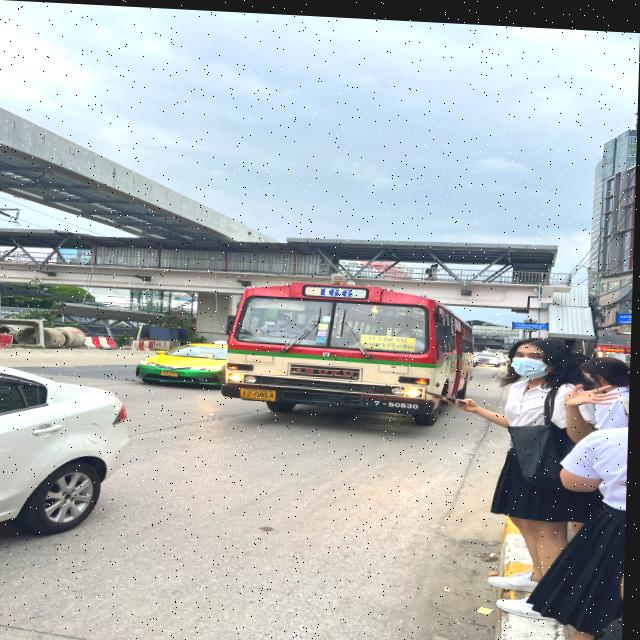BMTA-bus: (223, 273, 479, 425)
Bus-Line-Number: (301, 282, 370, 295)
Destination-Sign-Normal-Expressway: (363, 331, 416, 347)
